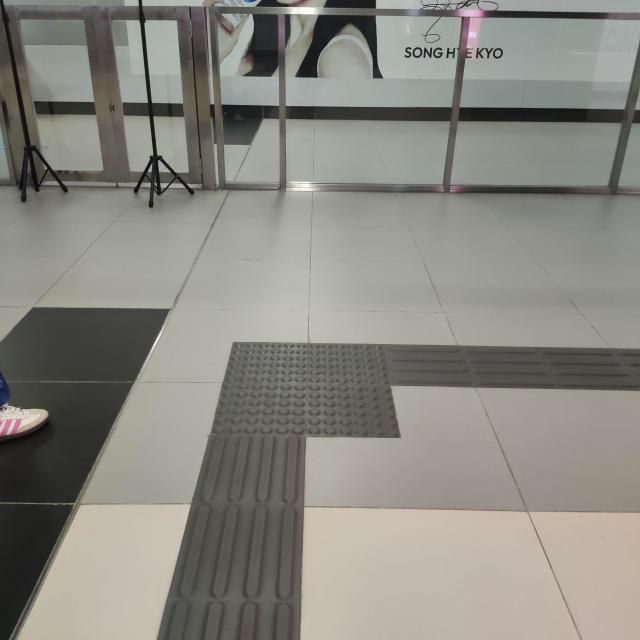kanan: (194, 301, 518, 447)
